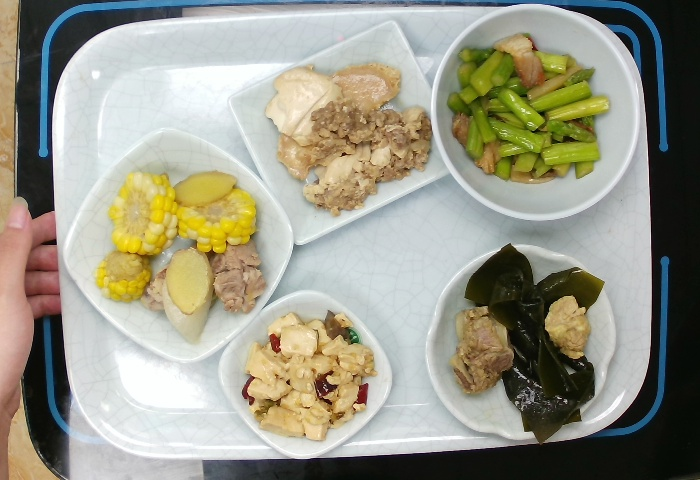JYsf-Ao_Yuan_Wan: (422, 243, 620, 445)
JYsf-Fan_Wan: (424, 1, 642, 226)
JYsf-Si_Fang_Die: (215, 286, 394, 459)
WCQzf-Da_Si_Fang_Die: (57, 123, 300, 368)
WCQzf-Ru_Ci_Si_Fang_Die: (227, 15, 466, 248)
